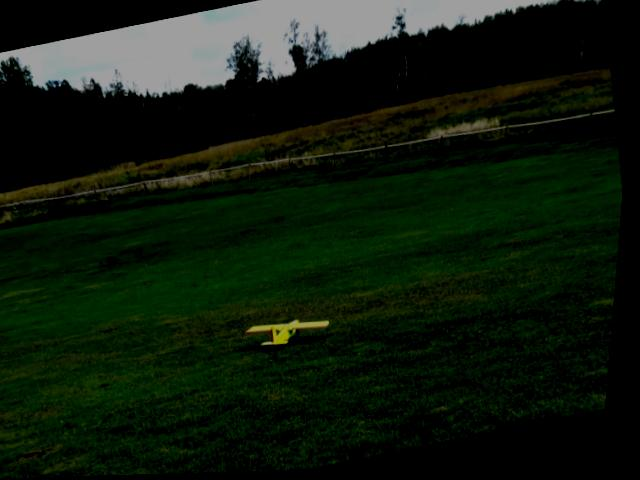plane: (247, 312, 338, 354)
